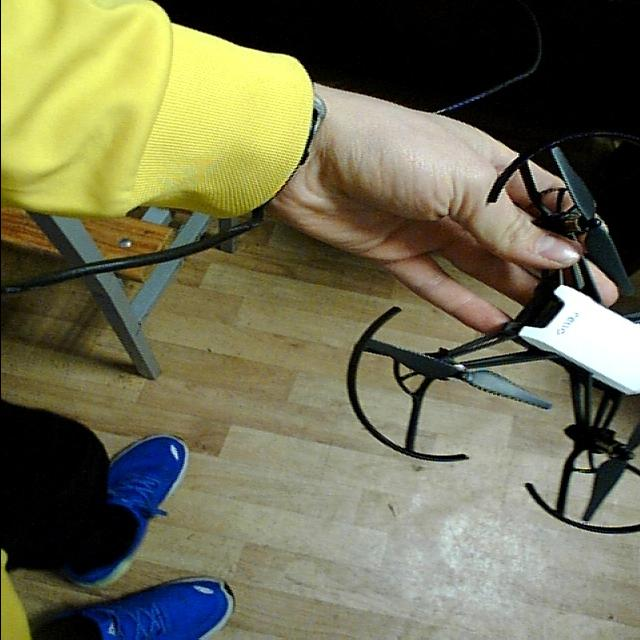drone: (329, 114, 640, 556)
